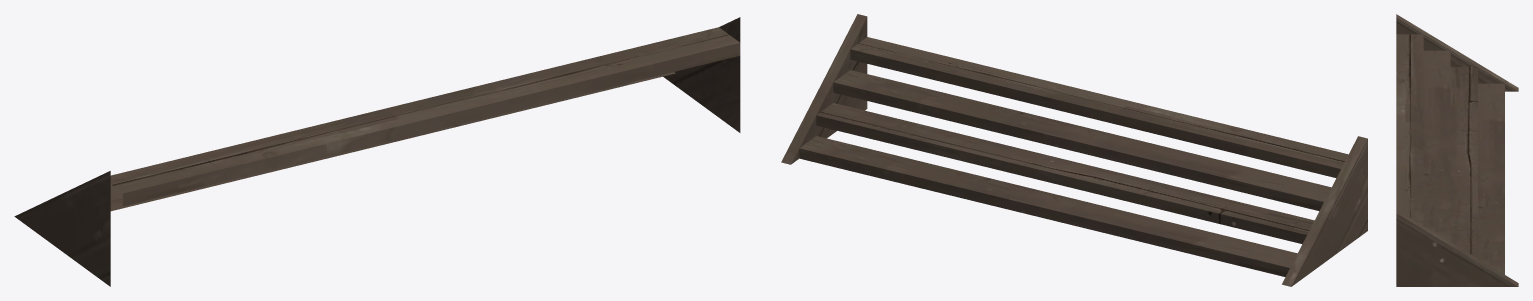
3 views of the same model, side by side, from view 1: azimuth 30°, elevation 25°; view 2: azimuth 150°, elevation 25°; view 3: azimuth 270°, elevation 25° (orthographic). The views are drawn at different scales.
Parts seen in each view (by area): view 1: body0_model0_lod0_mesh0; view 2: body0_model0_lod0_mesh0; view 3: body0_model0_lod0_mesh0.
Part boxes in pixels (x1=…): body0_model0_lod0_mesh0: x1=14, y1=17, x2=740, y2=286; body0_model0_lod0_mesh0: x1=781, y1=14, x2=1367, y2=286; body0_model0_lod0_mesh0: x1=1396, y1=14, x2=1518, y2=286.
Size of the model in its own units: 208 by 36.01 by 54.01.
1 material, 1 textured.
